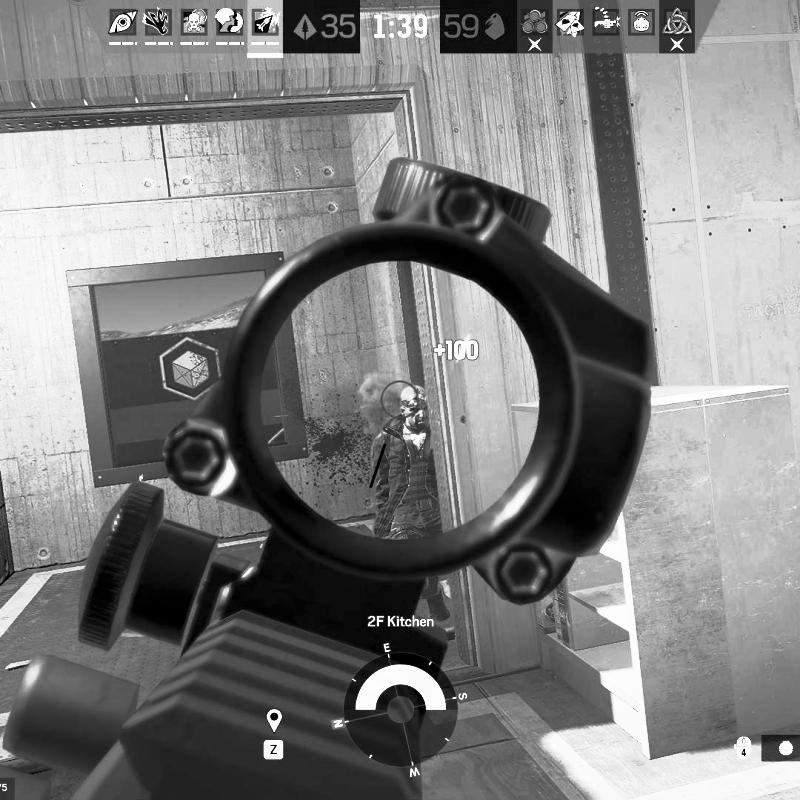Character: (369, 383, 459, 641)
Head: (400, 385, 431, 429)
